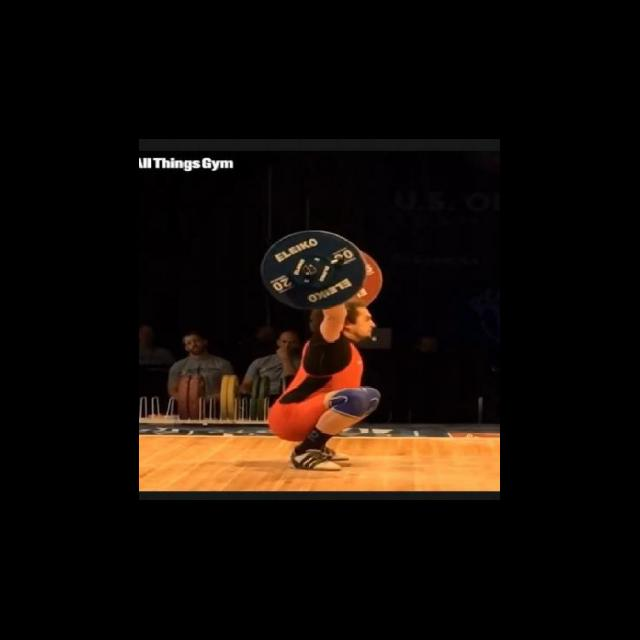barbell: (255, 228, 373, 313)
